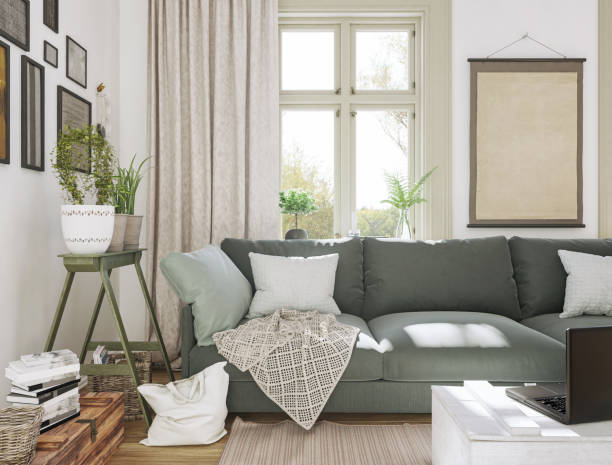small plant: (55, 123, 112, 253), (380, 163, 436, 237), (275, 184, 317, 241), (108, 162, 128, 254), (128, 164, 144, 249)
sofa: (158, 235, 611, 420)
table: (428, 375, 612, 465)
wall art: (464, 33, 590, 231), (54, 83, 94, 174), (18, 52, 47, 172), (0, 0, 31, 52), (63, 31, 90, 88), (0, 37, 11, 165), (40, 0, 60, 33), (41, 38, 60, 68)
